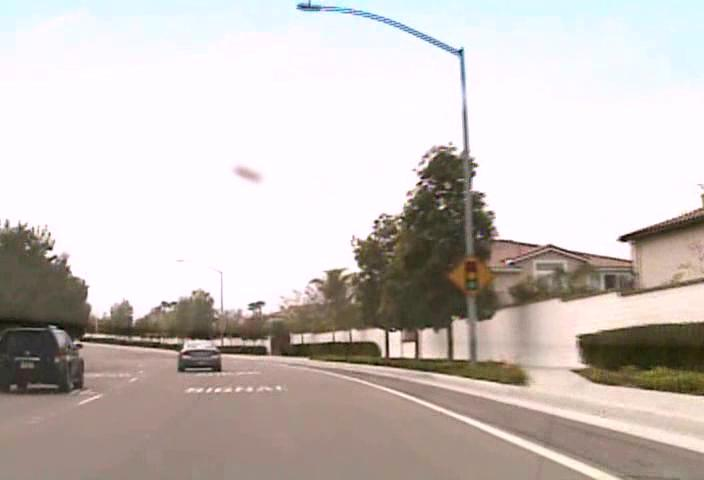signalAhead: (447, 252, 495, 299)
